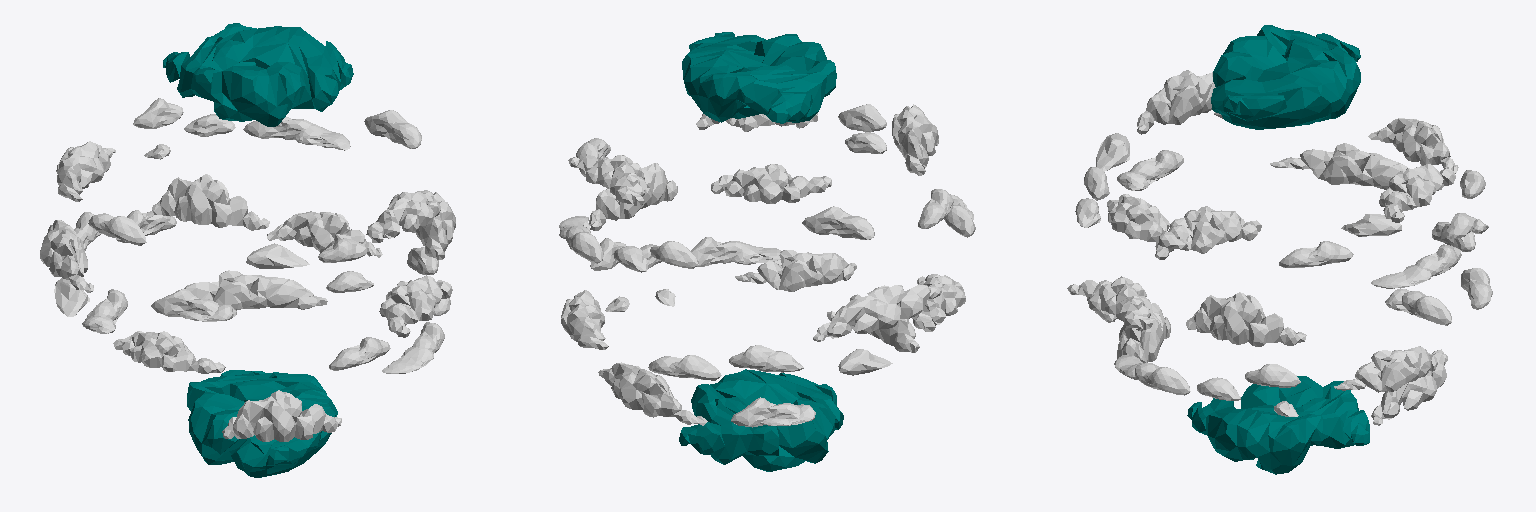
File: world.obj
3 views of the same model, side by side, from view 1: azimuth 30°, elevation 25°; view 2: azimuth 150°, elevation 25°; view 3: azimuth 270°, elevation 25° (orthographic).
Visible parts, largest first — view 1: clouds2, cloud18, cloud17; view 2: clouds2, cloud18, cloud17; view 3: clouds2, cloud18, cloud17.
Part boxes in pixels (left/top/right/bottom): clouds2: left=40, top=98, right=455, bottom=441; cloud18: left=163, top=23, right=353, bottom=126; cloud17: left=187, top=370, right=337, bottom=477; clouds2: left=559, top=104, right=975, bottom=427; cloud18: left=682, top=32, right=836, bottom=123; cloud17: left=679, top=369, right=843, bottom=471; clouds2: left=1067, top=70, right=1492, bottom=425; cloud18: left=1211, top=25, right=1360, bottom=129; cloud17: left=1187, top=376, right=1369, bottom=474.
Size of the model in its own units: 5.28 by 5.77 by 5.44.